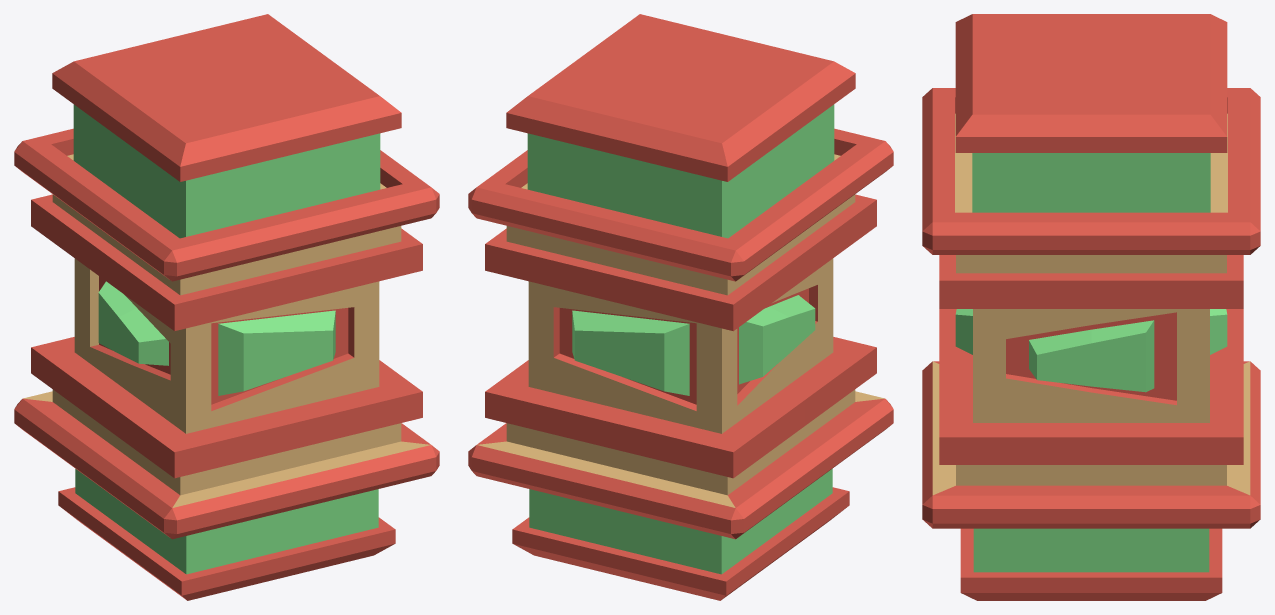
The model's file is Shield.fbx.
3 renders of one model, left to right at view 1: azimuth 30°, elevation 25°; view 2: azimuth 150°, elevation 25°; view 3: azimuth 270°, elevation 25°, orthographic. The views are drawn at different scales.
Visible parts, largest first — view 1: Cube; view 2: Cube; view 3: Cube.
Part boxes in pixels (x1=…): Cube: x1=14, y1=14, x2=439, y2=600; Cube: x1=468, y1=14, x2=893, y2=600; Cube: x1=922, y1=14, x2=1260, y2=600.
Bounding box in the file's own units: 1000 × 1593 × 1000.
